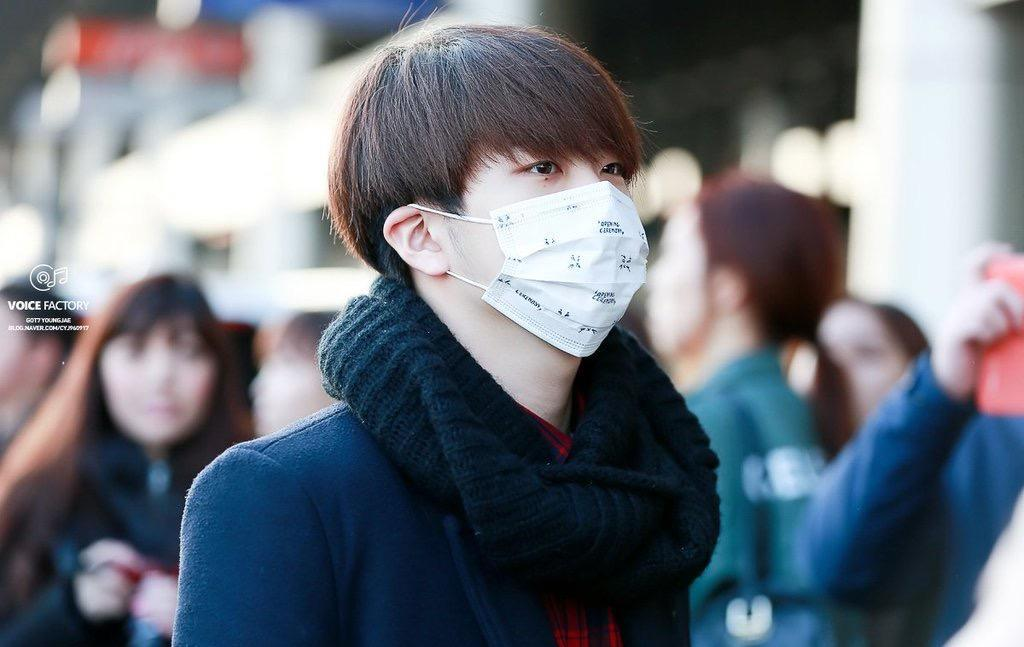NONE: (111, 334, 219, 435)
OK: (427, 126, 651, 350)
